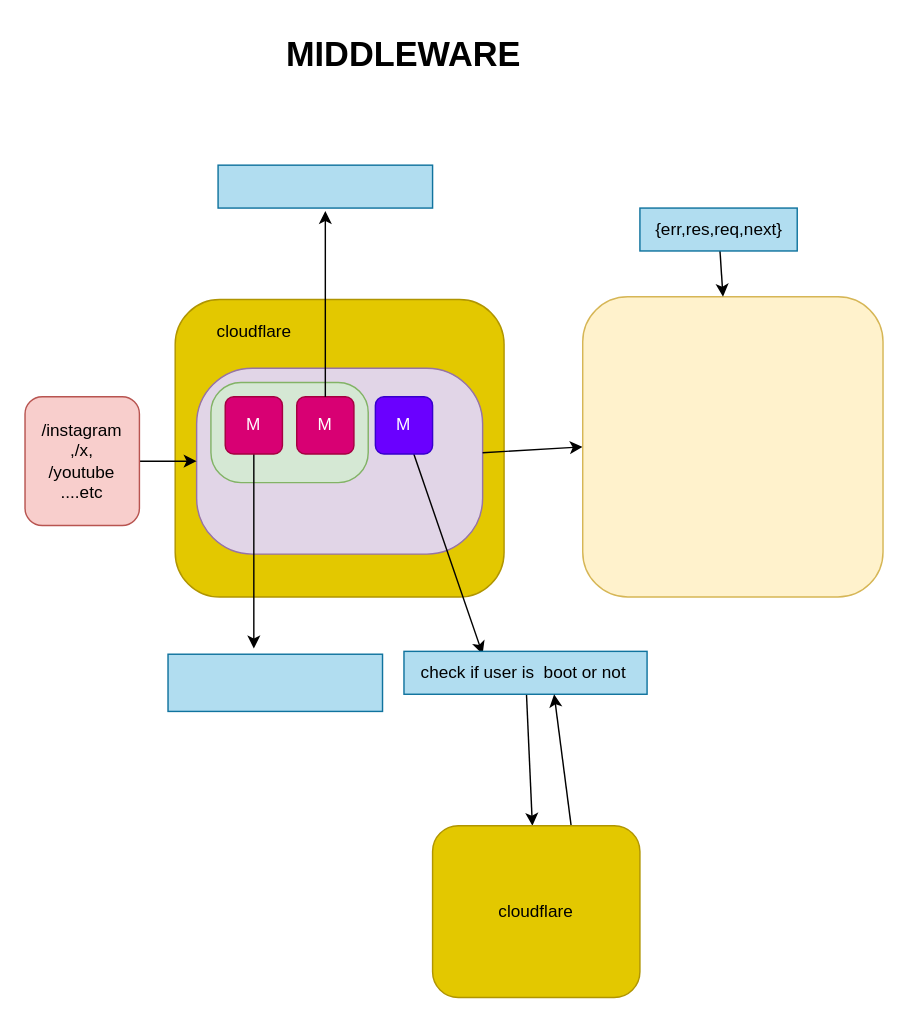
Some shapes in this 908 by 1022 pixel diagram are drawn without their labels. Each missing label, with the centre of its shape:
check if user is a admin: (x=325, y=186)
check if user is loggoed in or not: (x=275, y=682)
res.send("Abhi"): (x=732, y=446)
